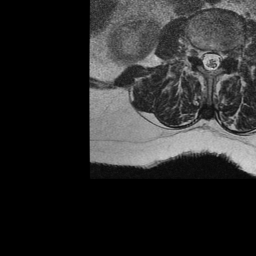CCS_normal: (208, 43, 215, 78)
LFS_normal: (224, 38, 232, 66)
LLS_normal: (215, 43, 224, 73)
RFS_normal: (192, 36, 200, 64)
RLS_normal: (200, 41, 208, 73)
